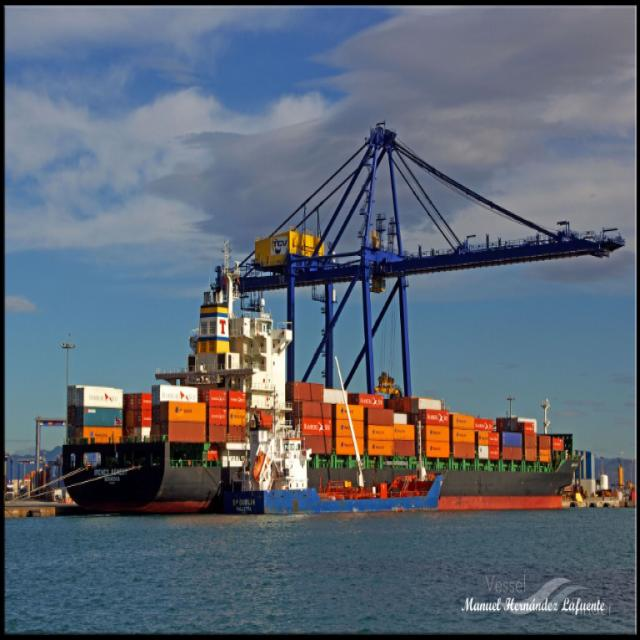Container Ship: (64, 259, 578, 510)
